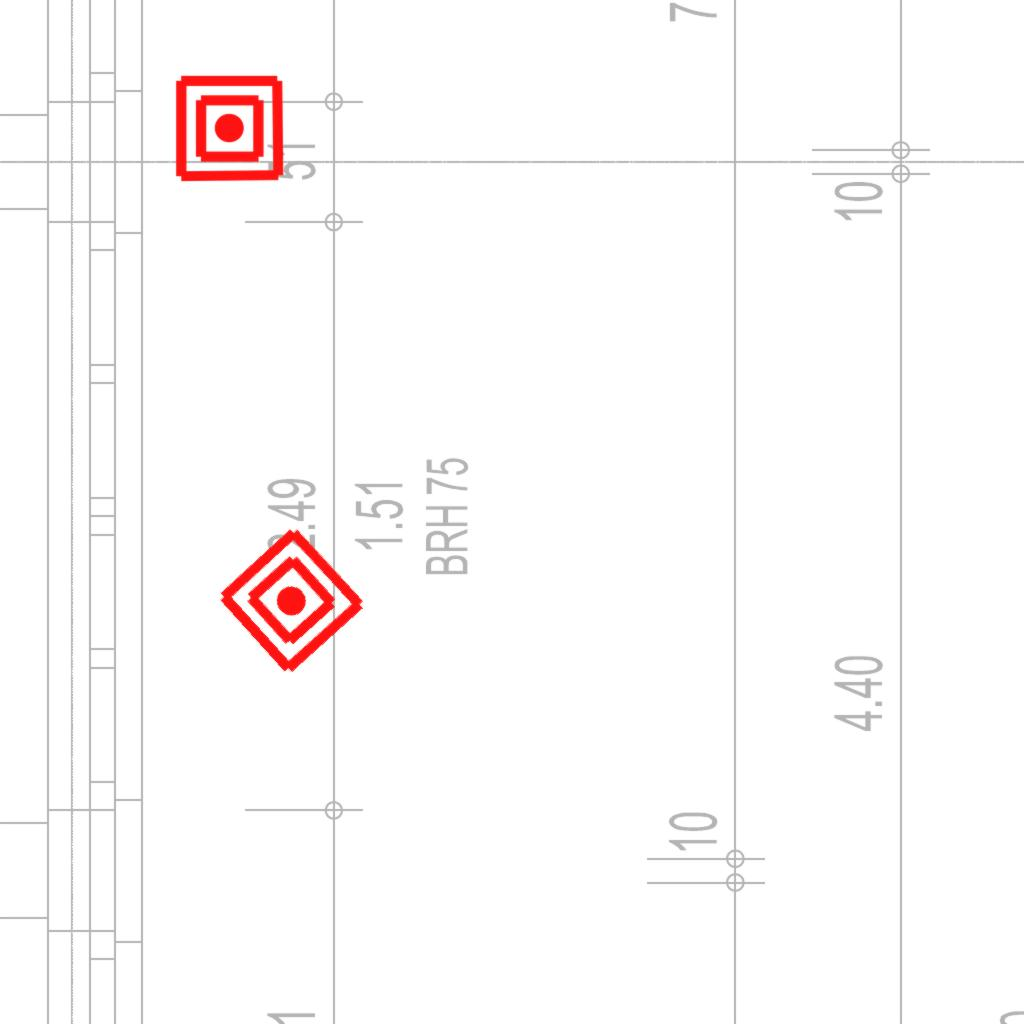NAM-Nichtautomatischer_Melder: (211, 520, 372, 681), (173, 72, 286, 185)
